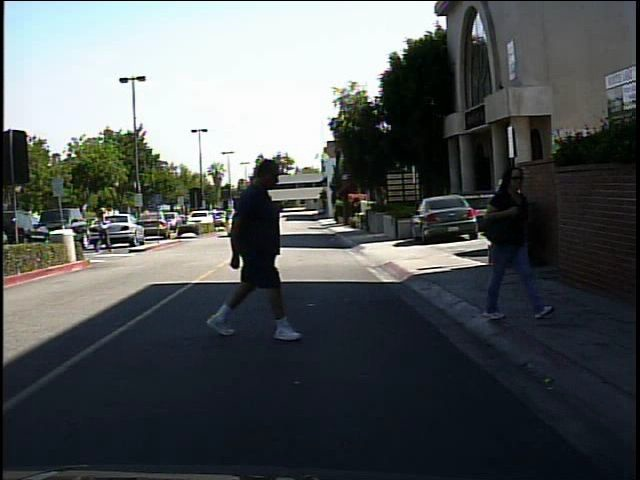person: (209, 151, 314, 342), (471, 157, 549, 329), (92, 203, 114, 256)
